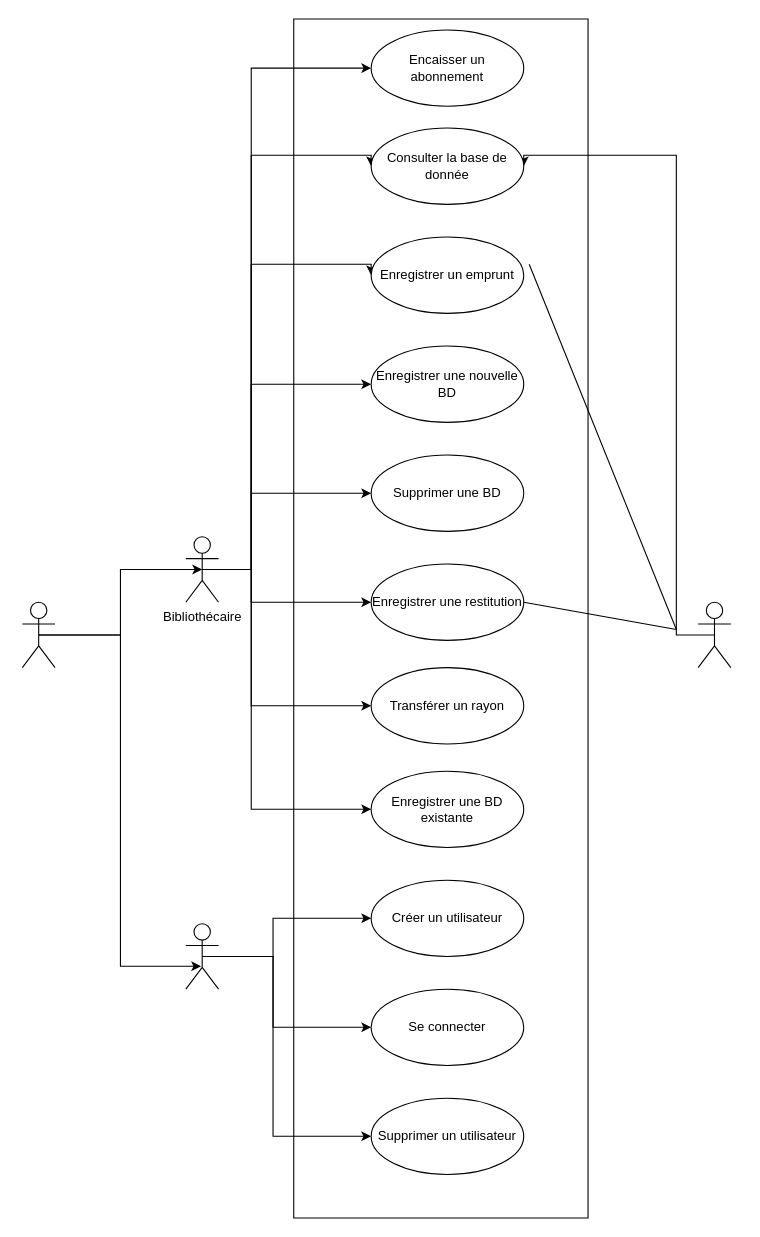
Some shapes in this 760 by 1237 pixel diagram are drawn without their labels. Each missing label, with the centre of its shape:
"Adhérent" belongs at point 714,634.
"administrateur" belongs at point 202,956.
"Salarié" belongs at point 38,634.
